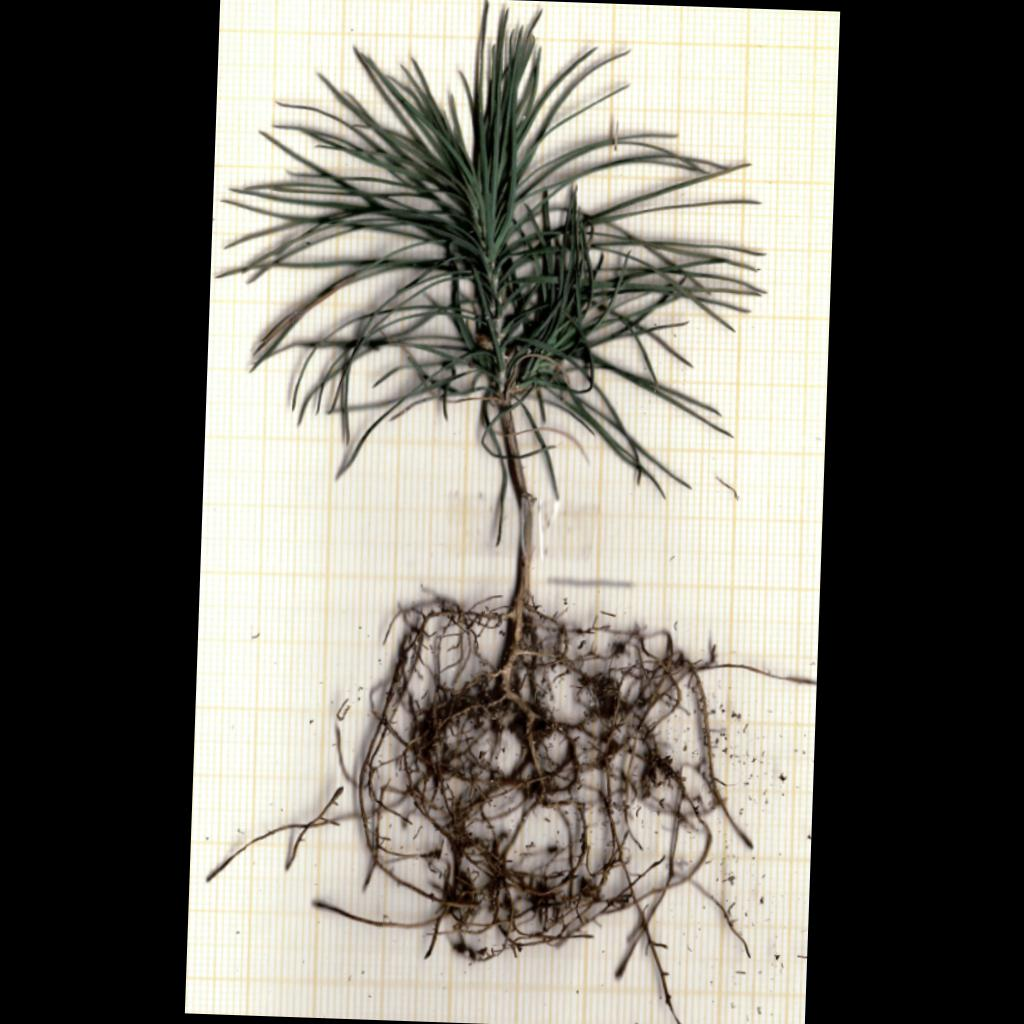flowerCedr: (220, 4, 760, 544)
rootCedr: (315, 598, 816, 1023)
stemCedr: (502, 411, 535, 600)
